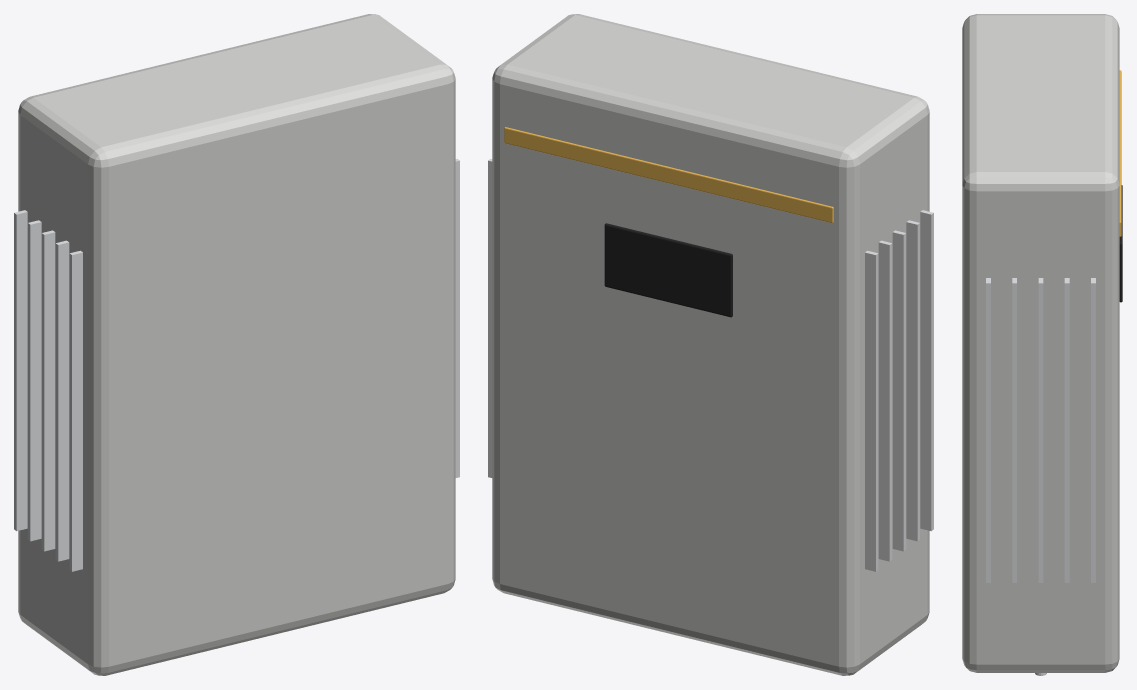
Rendered from growatt-spf-5000-es.glb.
The picture shows the model from 3 angles, left to right: view 1: azimuth 30°, elevation 25°; view 2: azimuth 150°, elevation 25°; view 3: azimuth 270°, elevation 25°; orthographic projection. The views are drawn at different scales.
Visible parts, largest first — view 1: body, fin--1-1, fin--1-2, fin--1-3, fin--1-4, fin--1-0, fin-1-0; view 2: body, display, stripe, fin--1-3, fin--1-2, fin--1-1, fin--1-0, fin--1-4, fin-1-4; view 3: body, fin-1-2, fin-1-3, fin-1-0, fin-1-1, fin-1-4, stripe, display.
Boxes of the visible parts, bbox=[...] form: body: bbox=[18, 14, 455, 675]; fin--1-1: bbox=[55, 240, 69, 561]; fin--1-2: bbox=[41, 230, 55, 551]; fin--1-3: bbox=[28, 220, 41, 541]; fin--1-4: bbox=[14, 210, 27, 531]; fin--1-0: bbox=[69, 250, 82, 571]; fin-1-0: bbox=[455, 158, 459, 477]; body: bbox=[492, 14, 929, 675]; display: bbox=[604, 223, 732, 317]; stripe: bbox=[504, 127, 833, 223]; fin--1-3: bbox=[878, 240, 892, 561]; fin--1-2: bbox=[892, 230, 906, 551]; fin--1-1: bbox=[906, 220, 919, 541]; fin--1-0: bbox=[920, 210, 933, 531]; fin--1-4: bbox=[865, 250, 878, 571]; fin-1-4: bbox=[488, 158, 492, 477]; body: bbox=[962, 14, 1119, 672]; fin-1-2: bbox=[1038, 278, 1043, 582]; fin-1-3: bbox=[1064, 278, 1069, 582]; fin-1-0: bbox=[986, 278, 990, 582]; fin-1-1: bbox=[1012, 278, 1016, 582]; fin-1-4: bbox=[1091, 278, 1095, 582]; stripe: bbox=[1119, 70, 1121, 236]; display: bbox=[1119, 185, 1122, 302].
Bounding box in the file's own units: 0.35 × 0.473 × 0.1325.
